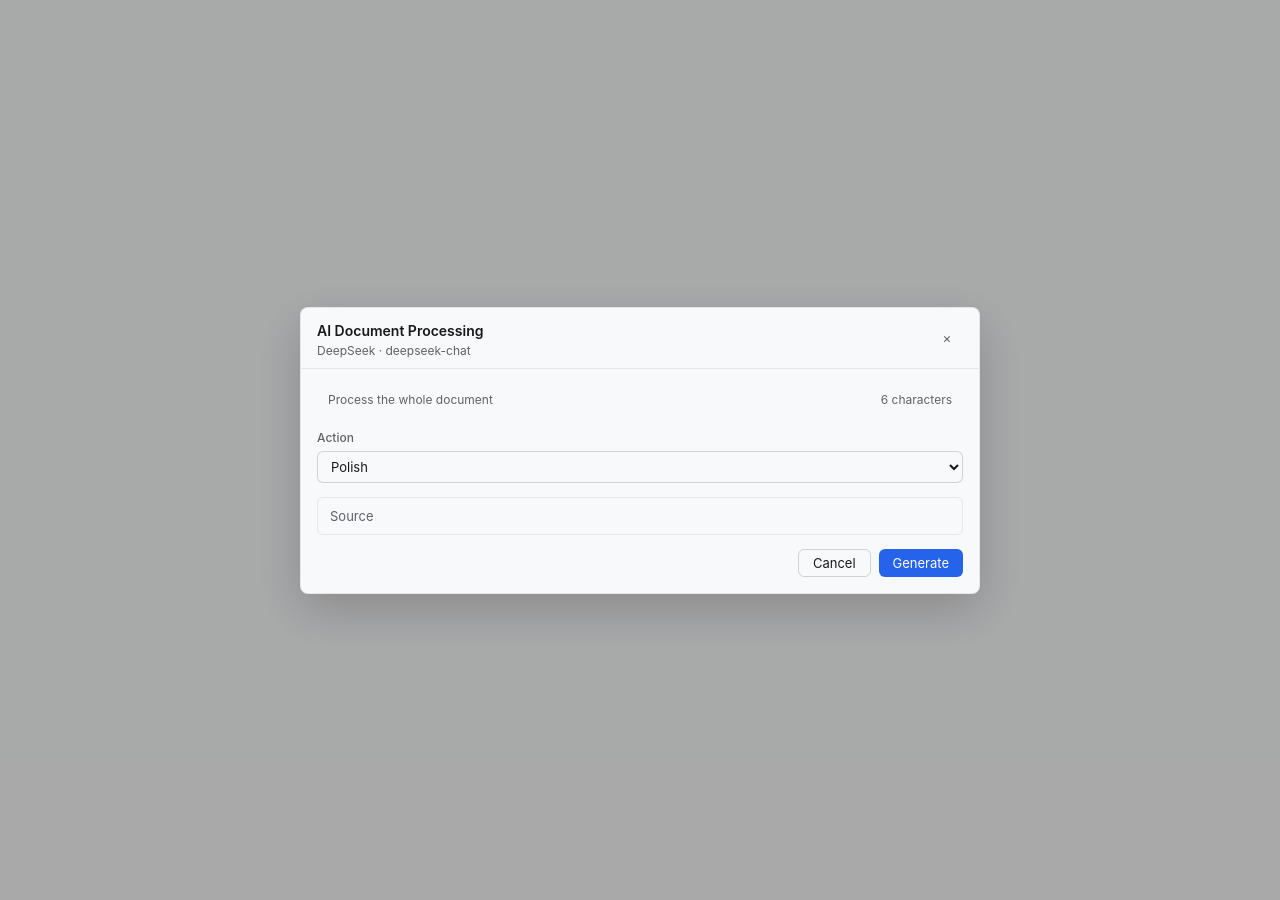
Test case: AI dialog lifecycle › shows completed results under StrictMode
Click the button "Generate" at (921, 562), box [879,548,963,576]
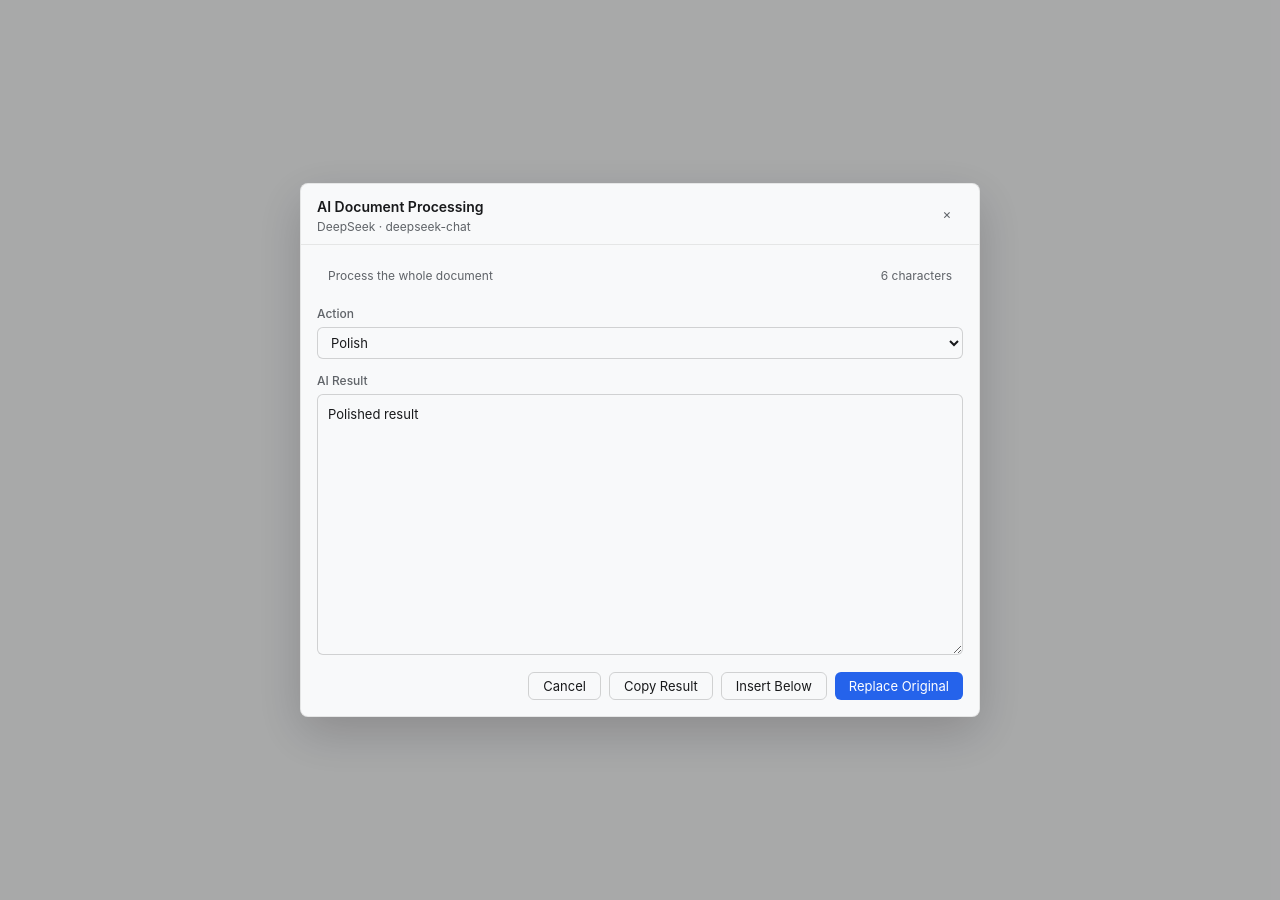
Check: the text box labelled "AI Result" holds "Polished result", box [317,394,963,655]
